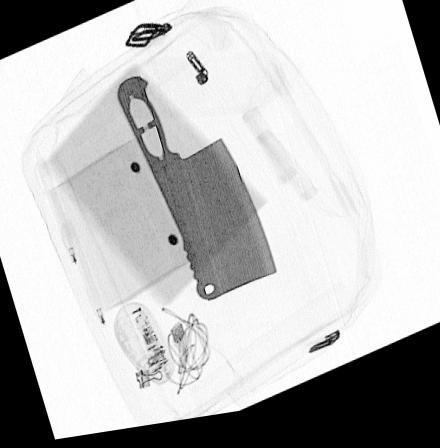Knife: (115, 77, 278, 308)
